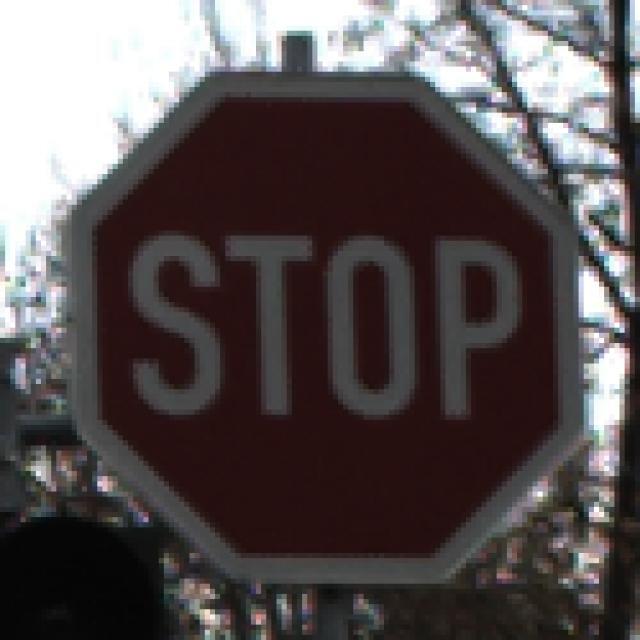STOP: (57, 57, 590, 585)
